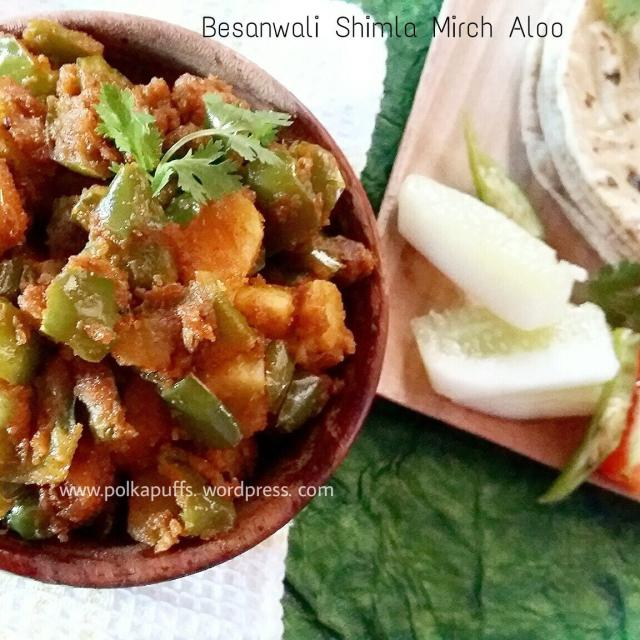aloo_gobi: (2, 13, 386, 574)
